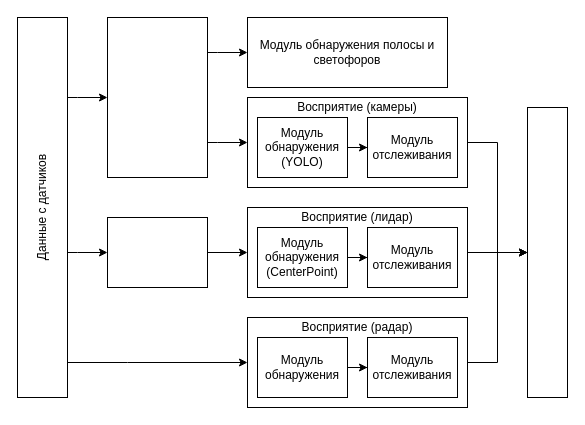
The diagram is 585 pixels wide and 425 high, and some of its shapes have lost their labels. The centre of each missing label's shape, as x and y in pixels:
Модуль объединения данных с датчиков: (547,252)
Модуль предобработки данных с лидара: (157,252)
Модуль предобработки изображений: (157,97)
